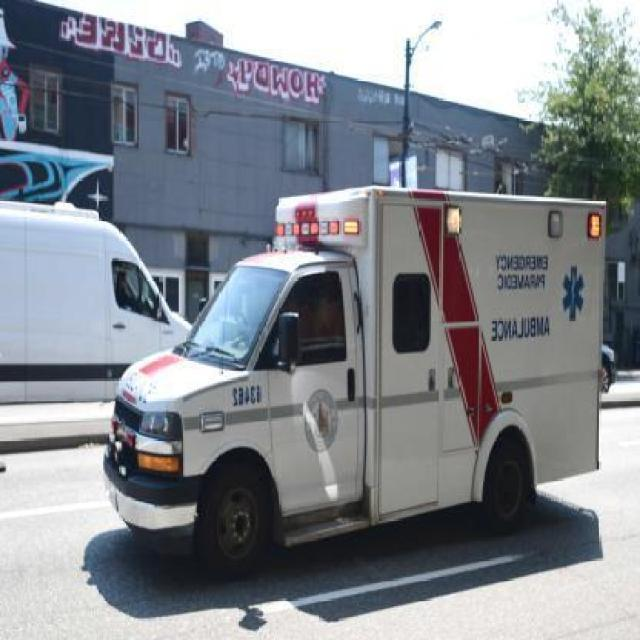emergency: (100, 183, 608, 575)
